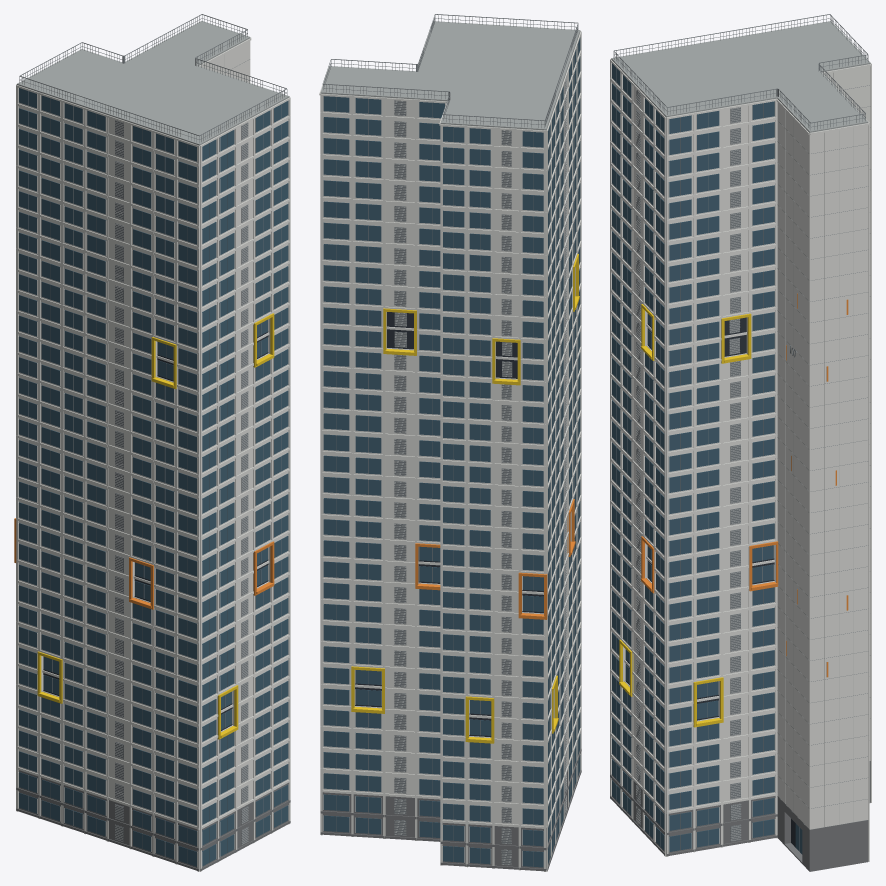
File: bespoke-songpa-helio-city-107.glb
3 renders of one model, left to right at view 1: azimuth 30°, elevation 25°; view 2: azimuth 150°, elevation 25°; view 3: azimuth 270°, elevation 25°, orthographic. The views are drawn at different scales.
Parts seen in each view (by area): view 1: Helio107_editable_Helio107_dark_blue_grey_glazing, Helio107_editable_Helio107_white_slab_frames, Helio107_editable_Helio107_grey_service_grille, Helio107_editable_Helio107_low_roof_deck, Helio107_editable_Helio107_blankwall_grey_panels, Helio107_editable_Helio107_dark_grey_twofloor_base, Helio107_editable_Helio107_yellow_projecting_rectangular_fra, Helio107_editable_Helio107_orange_narrow_accent; view 2: Helio107_editable_Helio107_white_slab_frames, Helio107_editable_Helio107_dark_blue_grey_glazing, Helio107_editable_Helio107_grey_service_grille, Helio107_editable_Helio107_low_roof_deck, Helio107_editable_Helio107_blankwall_grey_panels, Helio107_editable_Helio107_dark_grey_twofloor_base, Helio107_editable_Helio107_yellow_projecting_rectangular_fra, Helio107_editable_Helio107_deep_shaded_frame_recess, Helio107_editable_Helio107_orange_narrow_accent; view 3: Helio107_editable_Helio107_white_slab_frames, Helio107_editable_Helio107_dark_blue_grey_glazing, Helio107_editable_Helio107_grey_service_grille, Helio107_editable_Helio107_low_roof_deck, Helio107_editable_Helio107_blankwall_grey_panels, Helio107_editable_Helio107_dark_grey_twofloor_base, Helio107_editable_Helio107_yellow_projecting_rectangular_fra, Helio107_editable_Helio107_orange_narrow_accent, Helio107_editable_Helio107_deep_shaded_frame_recess.
Boxes of the visible parts, x1,y1,x2,y2 form: Helio107_editable_Helio107_dark_blue_grey_glazing: (19, 88, 288, 866); Helio107_editable_Helio107_white_slab_frames: (16, 37, 290, 871); Helio107_editable_Helio107_grey_service_grille: (19, 14, 287, 863); Helio107_editable_Helio107_low_roof_deck: (17, 21, 289, 145); Helio107_editable_Helio107_blankwall_grey_panels: (115, 55, 248, 844); Helio107_editable_Helio107_dark_grey_twofloor_base: (16, 770, 290, 871); Helio107_editable_Helio107_yellow_projecting_rectangular_fra: (37, 313, 274, 739); Helio107_editable_Helio107_orange_narrow_accent: (14, 518, 274, 609); Helio107_editable_Helio107_white_slab_frames: (319, 22, 581, 871); Helio107_editable_Helio107_dark_blue_grey_glazing: (323, 37, 580, 867); Helio107_editable_Helio107_grey_service_grille: (322, 14, 578, 866); Helio107_editable_Helio107_low_roof_deck: (320, 21, 580, 130); Helio107_editable_Helio107_blankwall_grey_panels: (394, 77, 566, 864); Helio107_editable_Helio107_dark_grey_twofloor_base: (320, 749, 581, 871); Helio107_editable_Helio107_yellow_projecting_rectangular_fra: (351, 254, 579, 743); Helio107_editable_Helio107_deep_shaded_frame_recess: (355, 312, 543, 737); Helio107_editable_Helio107_orange_narrow_accent: (415, 499, 575, 619); Helio107_editable_Helio107_white_slab_frames: (610, 22, 871, 861); Helio107_editable_Helio107_dark_blue_grey_glazing: (612, 63, 802, 854); Helio107_editable_Helio107_grey_service_grille: (613, 14, 870, 851); Helio107_editable_Helio107_low_roof_deck: (611, 21, 870, 132); Helio107_editable_Helio107_blankwall_grey_panels: (636, 73, 853, 840); Helio107_editable_Helio107_dark_grey_twofloor_base: (610, 758, 870, 871); Helio107_editable_Helio107_yellow_projecting_rectangular_fra: (619, 304, 751, 727); Helio107_editable_Helio107_orange_narrow_accent: (641, 293, 848, 677); Helio107_editable_Helio107_deep_shaded_frame_recess: (625, 317, 795, 847).
Bounding box in the file's own units: 31.79 × 99 × 31.4.
